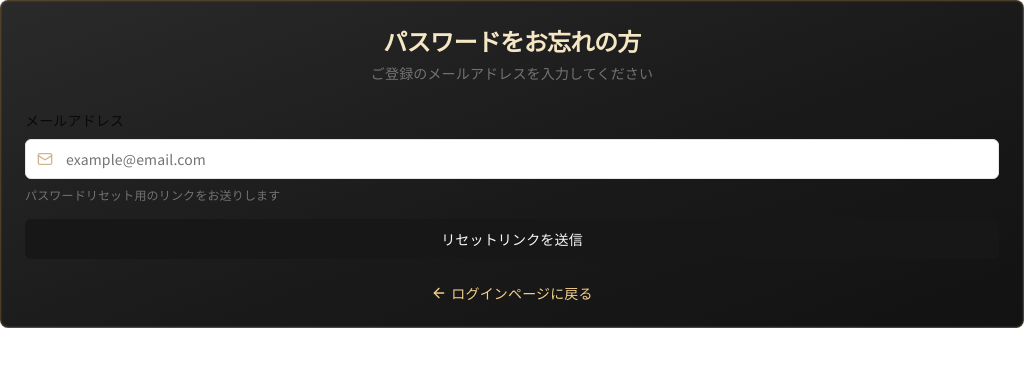
Test: ForgotPasswordForm › should successfully submit and show success message
Type "test@example.com" into the field labelled "メールアドレス" at (512, 159), box [25,139,999,179]
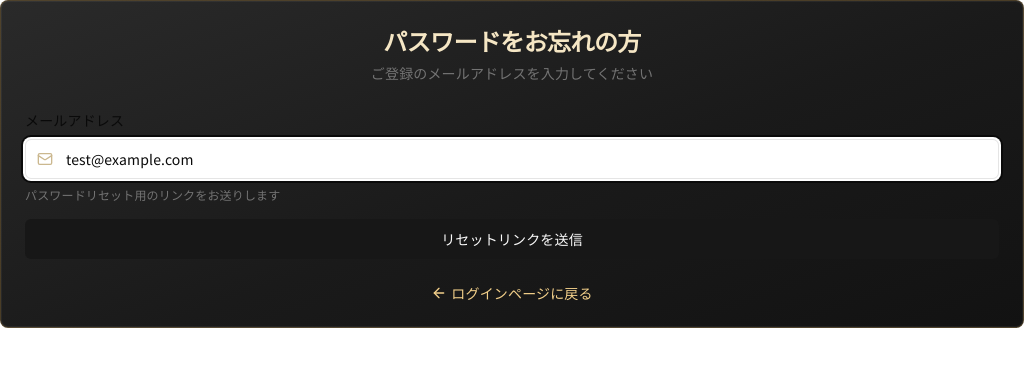
Click the button "リセットリンクを送信" at (512, 239), box [25,219,999,259]
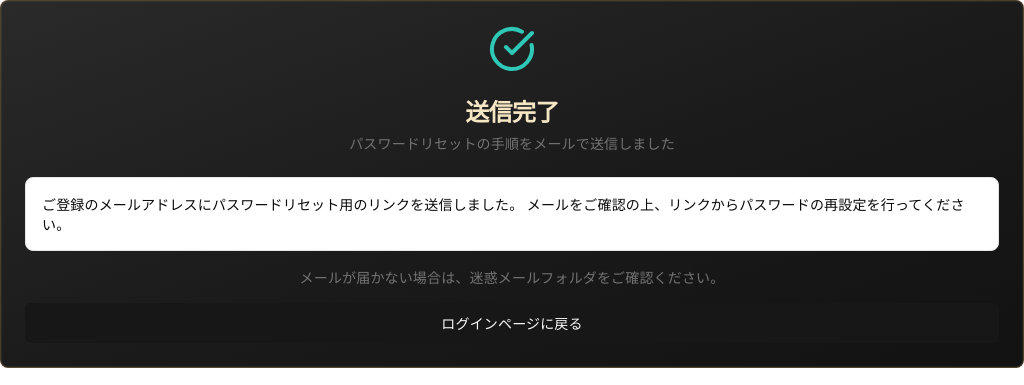
Check: the text "送信完了" is shown, box [465,93,559,128]
Check: the text "パスワードリセットの手順をメールで送信しました" is shown, box [349,133,675,153]
